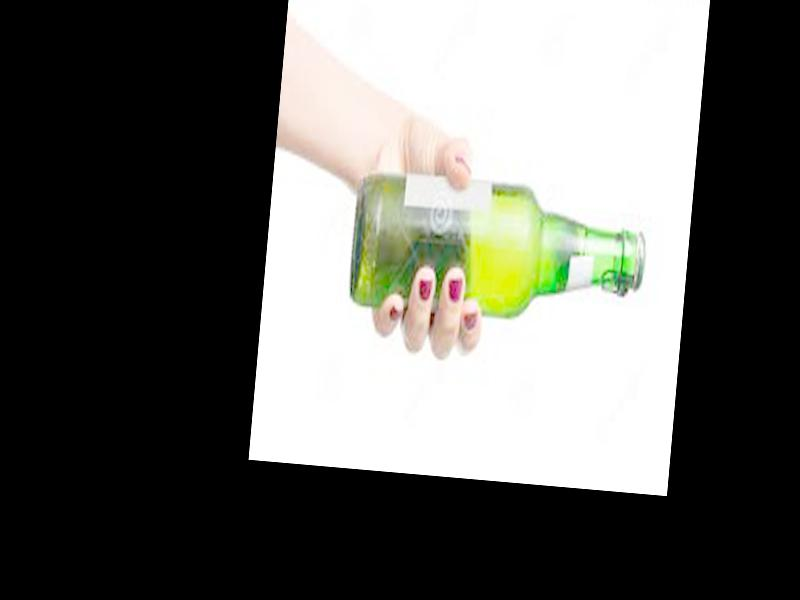Beer: (346, 166, 652, 330)
